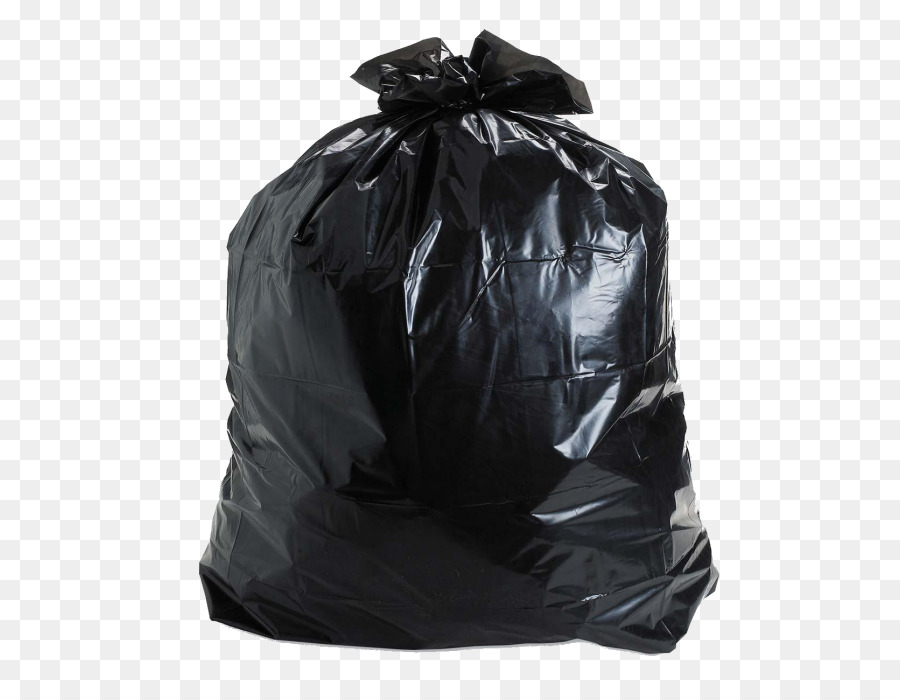plastic_bagwdw: (144, 24, 742, 689)
